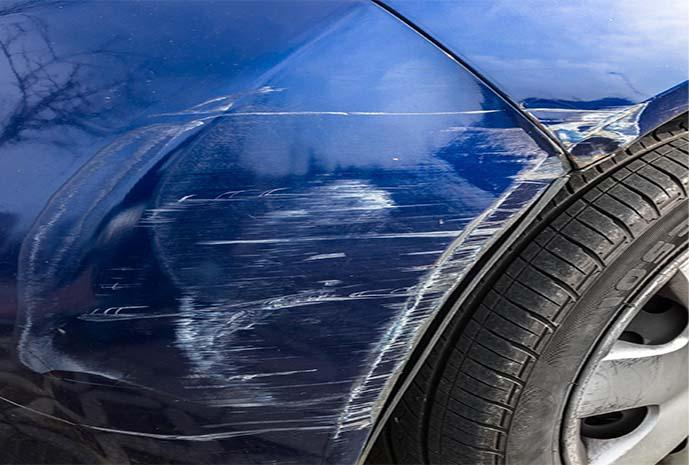scratch: (3, 73, 654, 456)
